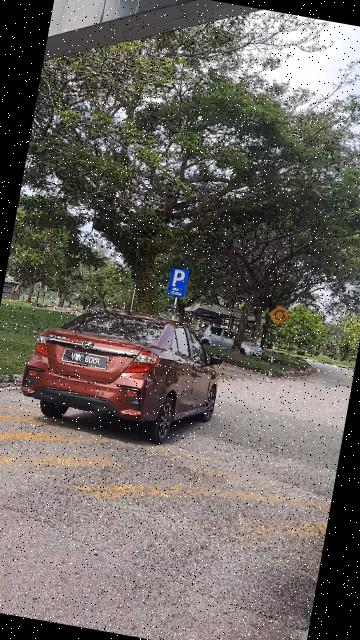License_Plate: (60, 347, 110, 372)
car: (10, 285, 236, 455)
